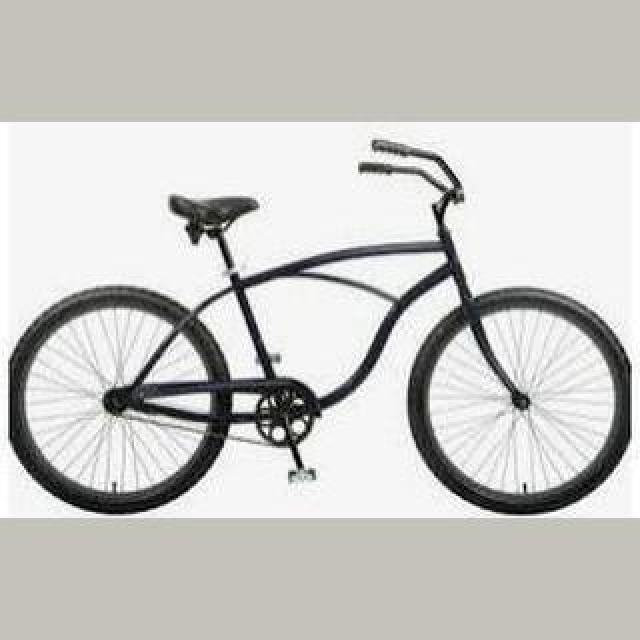Person: (9, 140, 631, 516)
